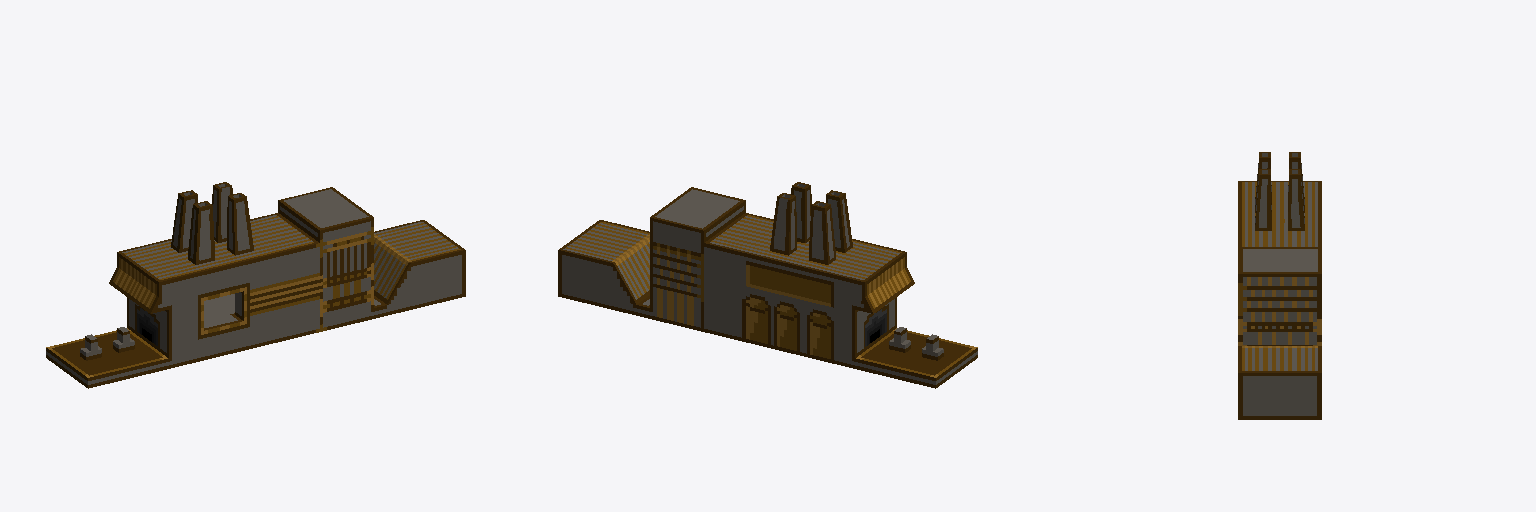
The picture shows the model from 3 angles: view 1: azimuth 30°, elevation 25°; view 2: azimuth 150°, elevation 25°; view 3: azimuth 270°, elevation 25°; orthographic projection.
Parts seen in each view (by area): view 1: masonry_Cube; view 2: masonry_Cube; view 3: masonry_Cube.
Part boxes in pixels (left/top/right/bottom): masonry_Cube: left=46, top=182, right=465, bottom=388; masonry_Cube: left=558, top=182, right=977, bottom=388; masonry_Cube: left=1238, top=152, right=1321, bottom=419.
Bounding box in the file's own units: 11.1 × 4.01 × 2.12.
Materials: 1 (1 with a texture image).